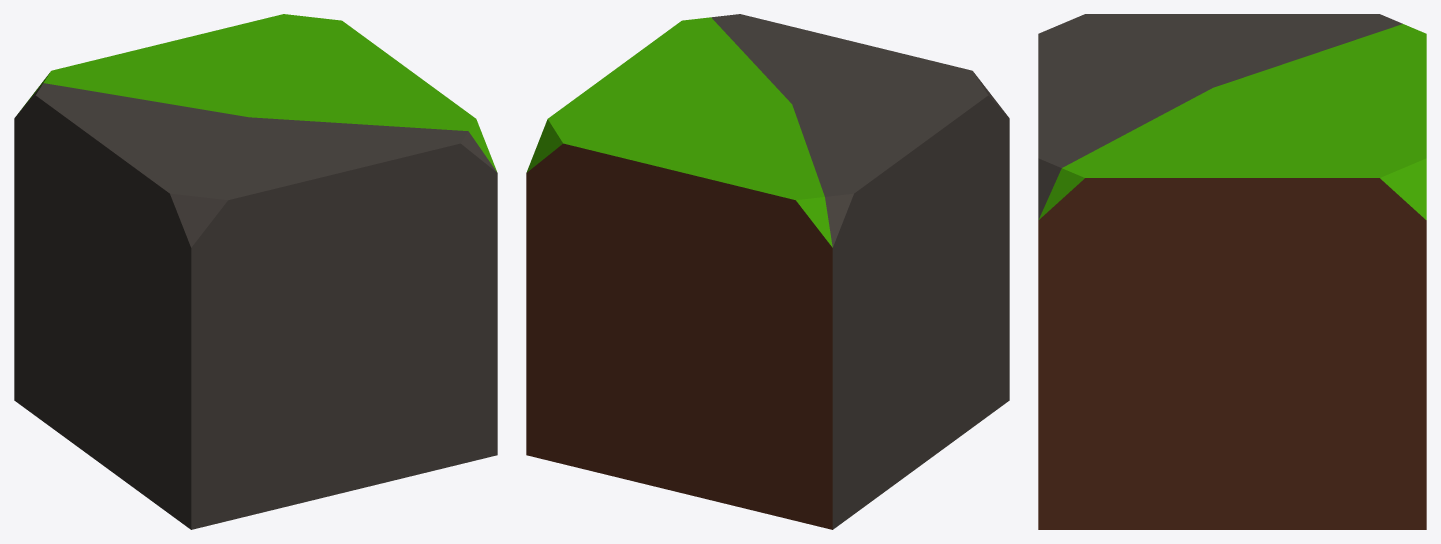
File: TIle_Grass_to_DarkRock_Corner.fbx
The picture shows the model from 3 angles, left to right: view 1: azimuth 30°, elevation 25°; view 2: azimuth 150°, elevation 25°; view 3: azimuth 270°, elevation 25°; orthographic projection. The views are drawn at different scales.
Visible parts, largest first — view 1: TIle_Grass_to_DarkRock_Corner; view 2: TIle_Grass_to_DarkRock_Corner; view 3: TIle_Grass_to_DarkRock_Corner.
Part boxes in pixels (bbox=[...]): TIle_Grass_to_DarkRock_Corner: bbox=[14, 14, 497, 529]; TIle_Grass_to_DarkRock_Corner: bbox=[526, 14, 1009, 529]; TIle_Grass_to_DarkRock_Corner: bbox=[1038, 14, 1426, 529].
Bounding box in the file's own units: 5 × 5 × 5.
